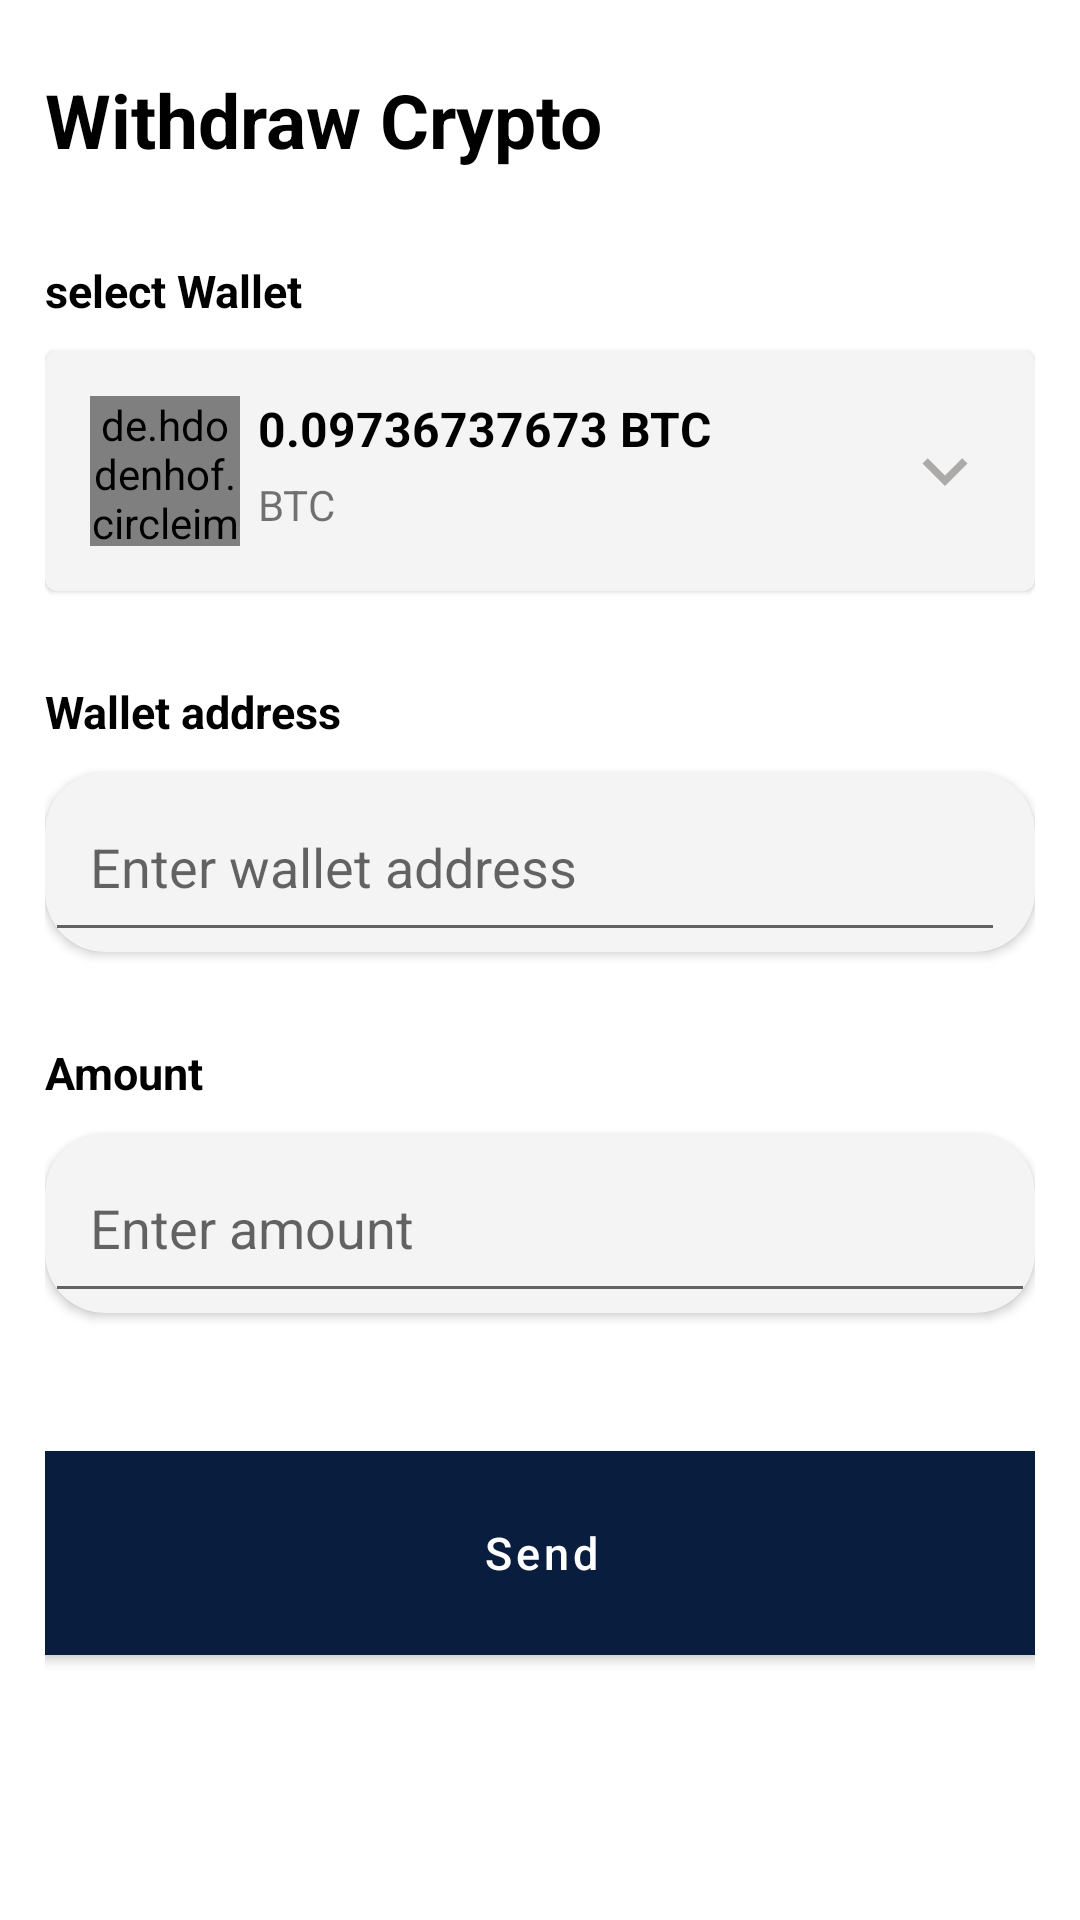

Icons on this 1080x1920 Android screen, each with its box as (x1, y1, x2, y2):
keyboard arrow down: (923, 458, 967, 486)
